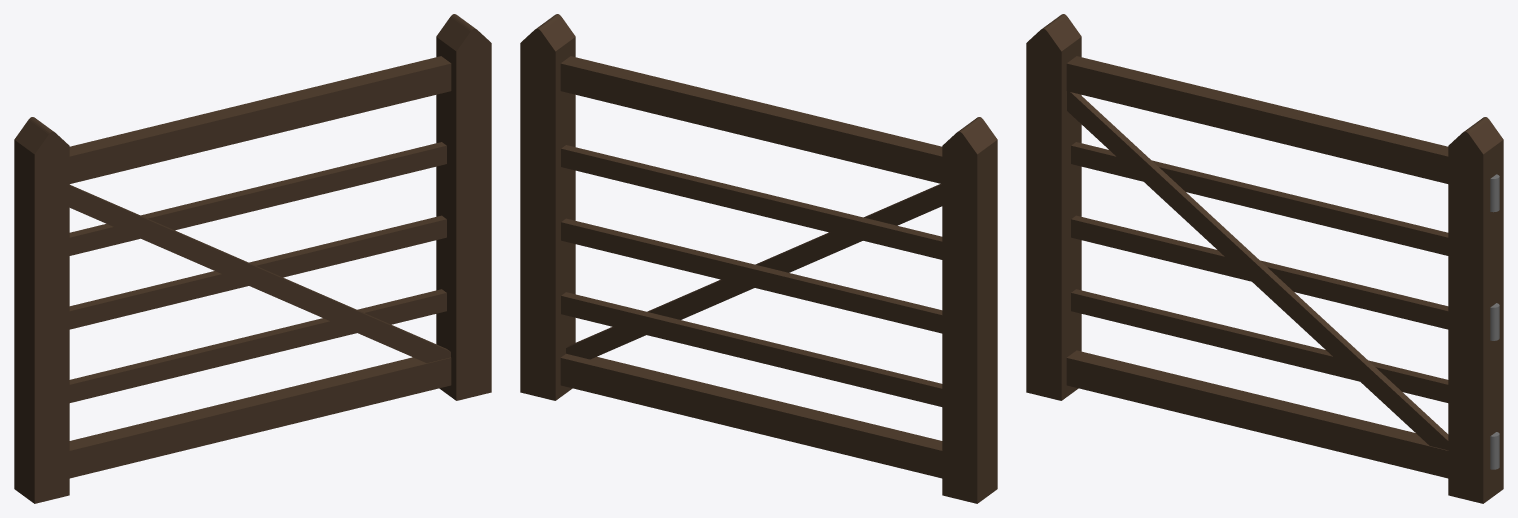
Rendered from Barn Fence gates Right.glb.
3 renders of one model, left to right at view 1: azimuth 30°, elevation 25°; view 2: azimuth 150°, elevation 25°; view 3: azimuth 330°, elevation 25°, orthographic.
Parts seen in each view (by area): view 1: Barn fence gate Right; view 2: Barn fence gate Right; view 3: Barn fence gate Right.
Boxes of the visible parts, x1=… form: Barn fence gate Right: x1=14, y1=14, x2=491, y2=503; Barn fence gate Right: x1=520, y1=14, x2=997, y2=503; Barn fence gate Right: x1=1026, y1=14, x2=1503, y2=503.
Size of the model in its own units: 2.63 by 2 by 0.2.
2 materials, 2 textured.
